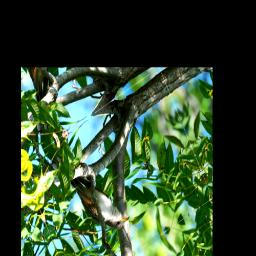Cuckoo: (70, 157, 131, 246)
